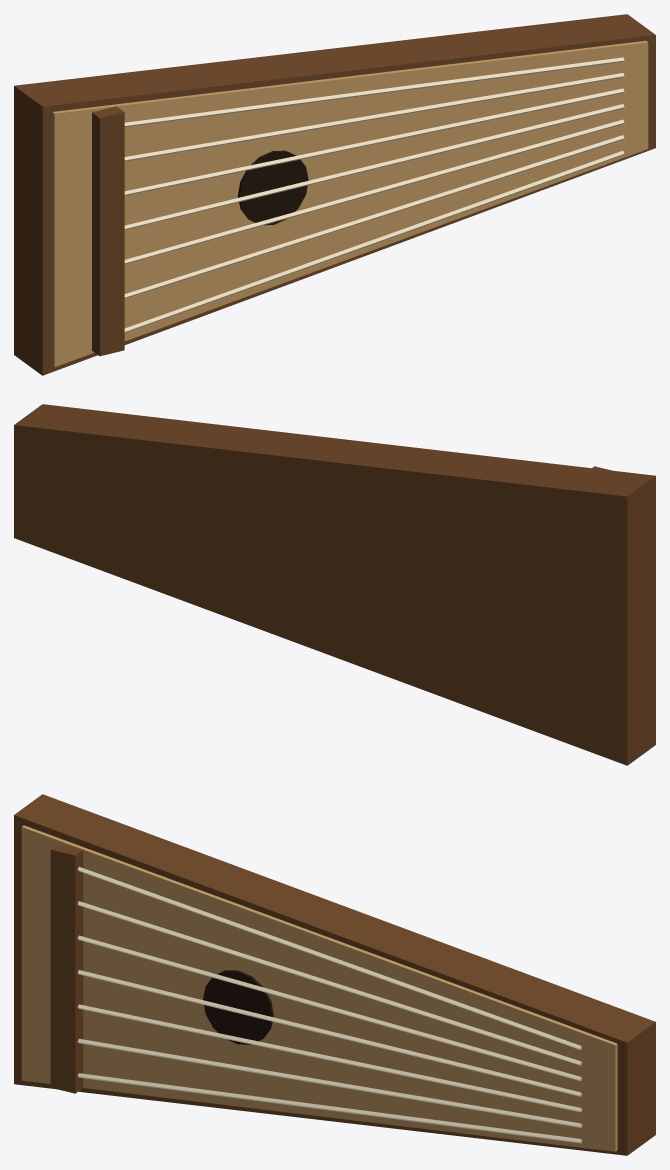
Rendered from Husli.gltf.
3 views of the same model, one above another, from view 1: azimuth 30°, elevation 25°; view 2: azimuth 150°, elevation 25°; view 3: azimuth 330°, elevation 25° (orthographic).
Visible parts, largest first — view 1: Cube; view 2: Cube; view 3: Cube.
Part boxes in pixels (x1,y1,x2,y2): Cube: [14, 14, 655, 375]; Cube: [14, 404, 655, 765]; Cube: [14, 794, 655, 1155].
Bounding box in the file's own units: 0.62 × 0.26 × 0.068.
